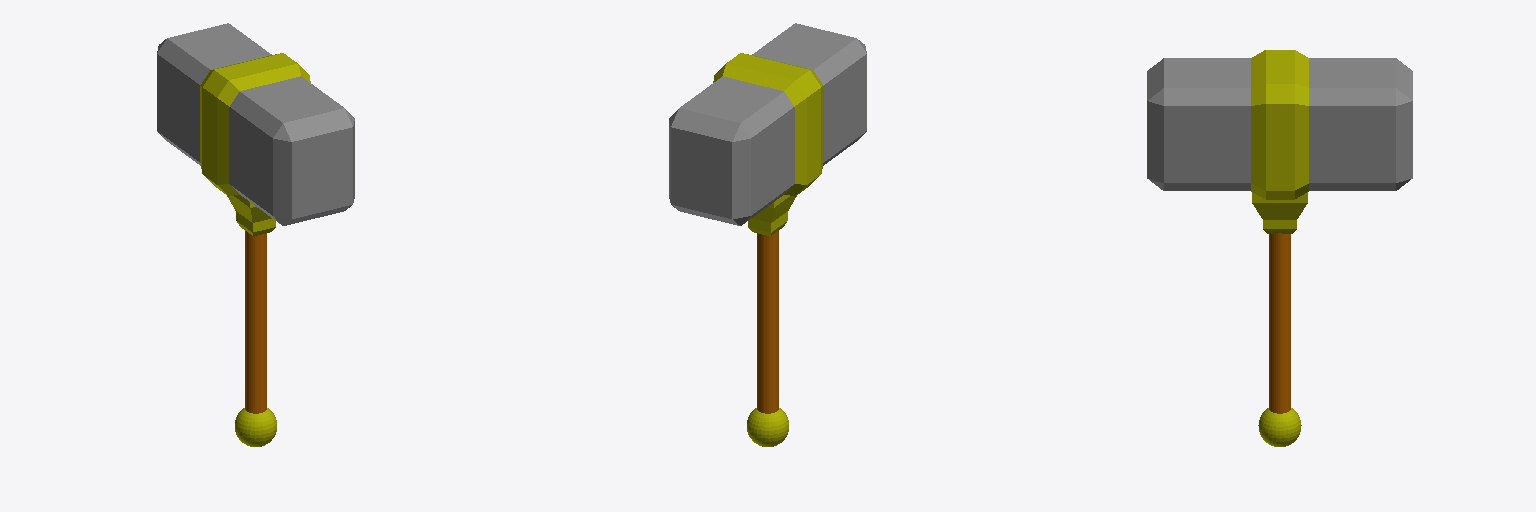
3 renders of one model, left to right at view 1: azimuth 30°, elevation 25°; view 2: azimuth 150°, elevation 25°; view 3: azimuth 270°, elevation 25°, orthographic.
Visible parts, largest first — view 1: Cube; view 2: Cube; view 3: Cube.
Boxes of the visible parts, x1=… form: Cube: x1=157, y1=23, x2=354, y2=446; Cube: x1=669, y1=23, x2=866, y2=446; Cube: x1=1147, y1=50, x2=1412, y2=446.
Size of the model in its own units: 0.7054 by 2.76 by 1.75.
Materials: 1 (1 with a texture image).